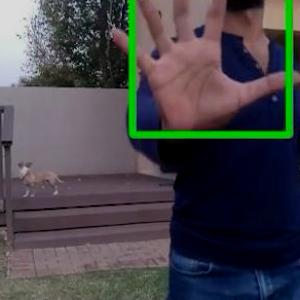follow_hand: (98, 0, 299, 136)
